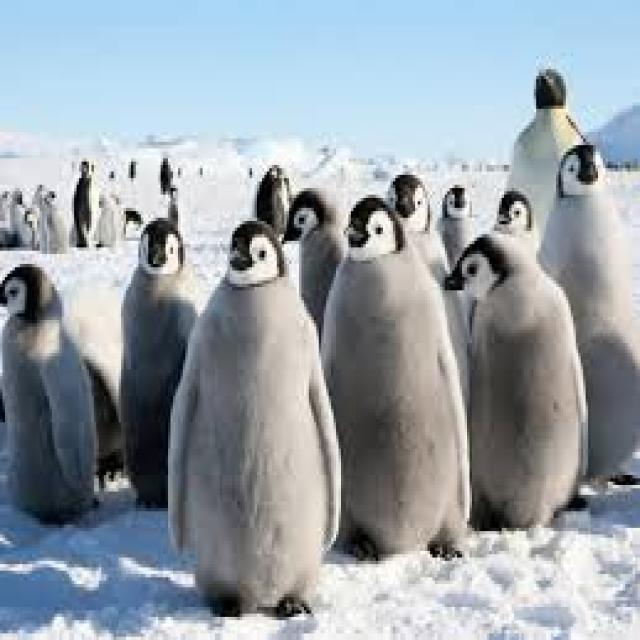penguin: (168, 218, 336, 610), (321, 195, 467, 554), (445, 224, 586, 528), (541, 142, 638, 478), (0, 264, 96, 518), (119, 201, 195, 505), (509, 69, 581, 234), (284, 188, 341, 330), (390, 172, 447, 277), (440, 185, 472, 264), (497, 191, 531, 231)
